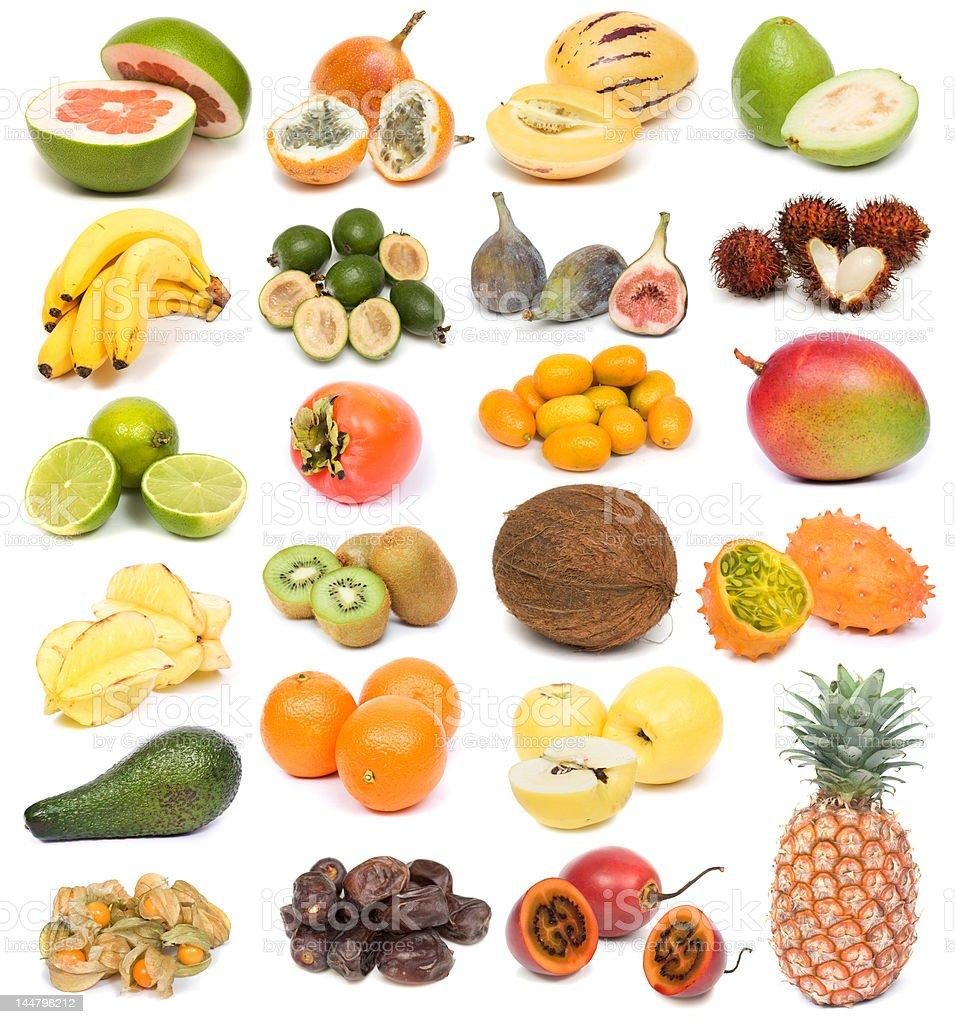chuoi: (39, 208, 223, 381)
xoai: (743, 330, 929, 483)
